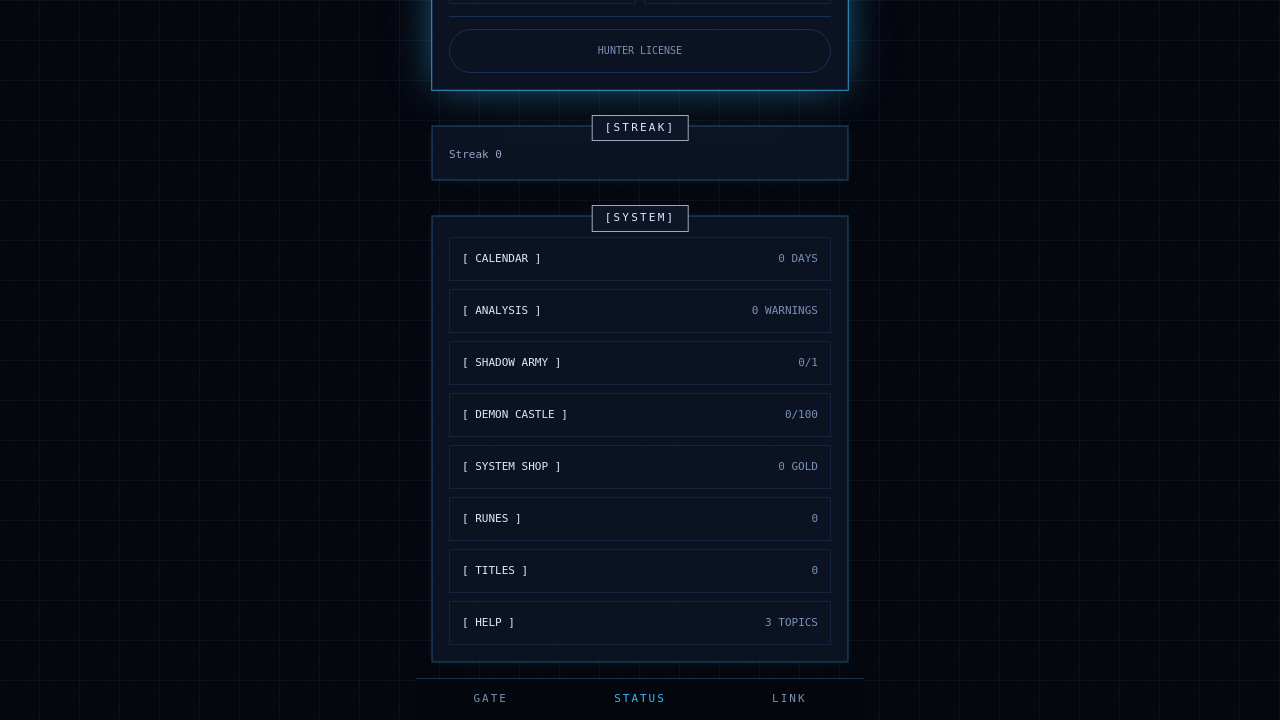
Test case: the summon overlay (m10-plan commit 3, F14) › opens on tapping a summon row, and closes on navigating back
(page scrolled)
Click the button "[ Runes ] 0": click(492, 518) [449,497,831,541]
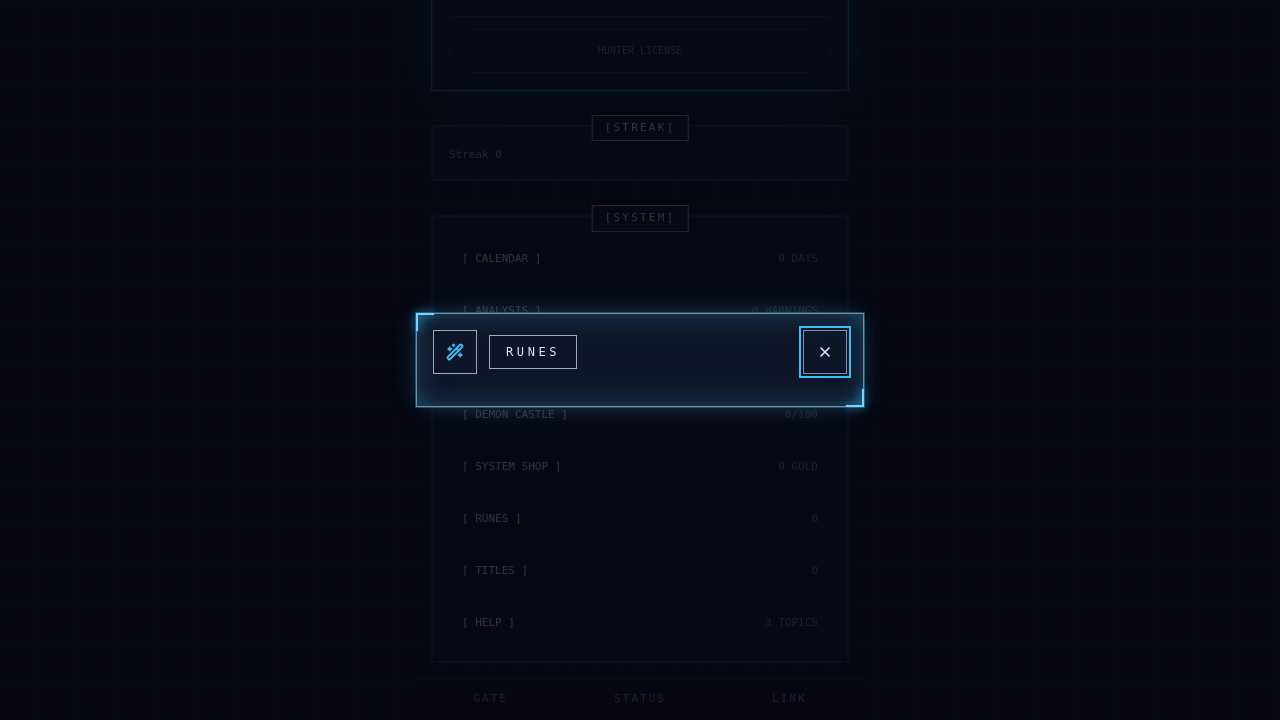
Check: the dialog is shown, box [416,313,864,407]
